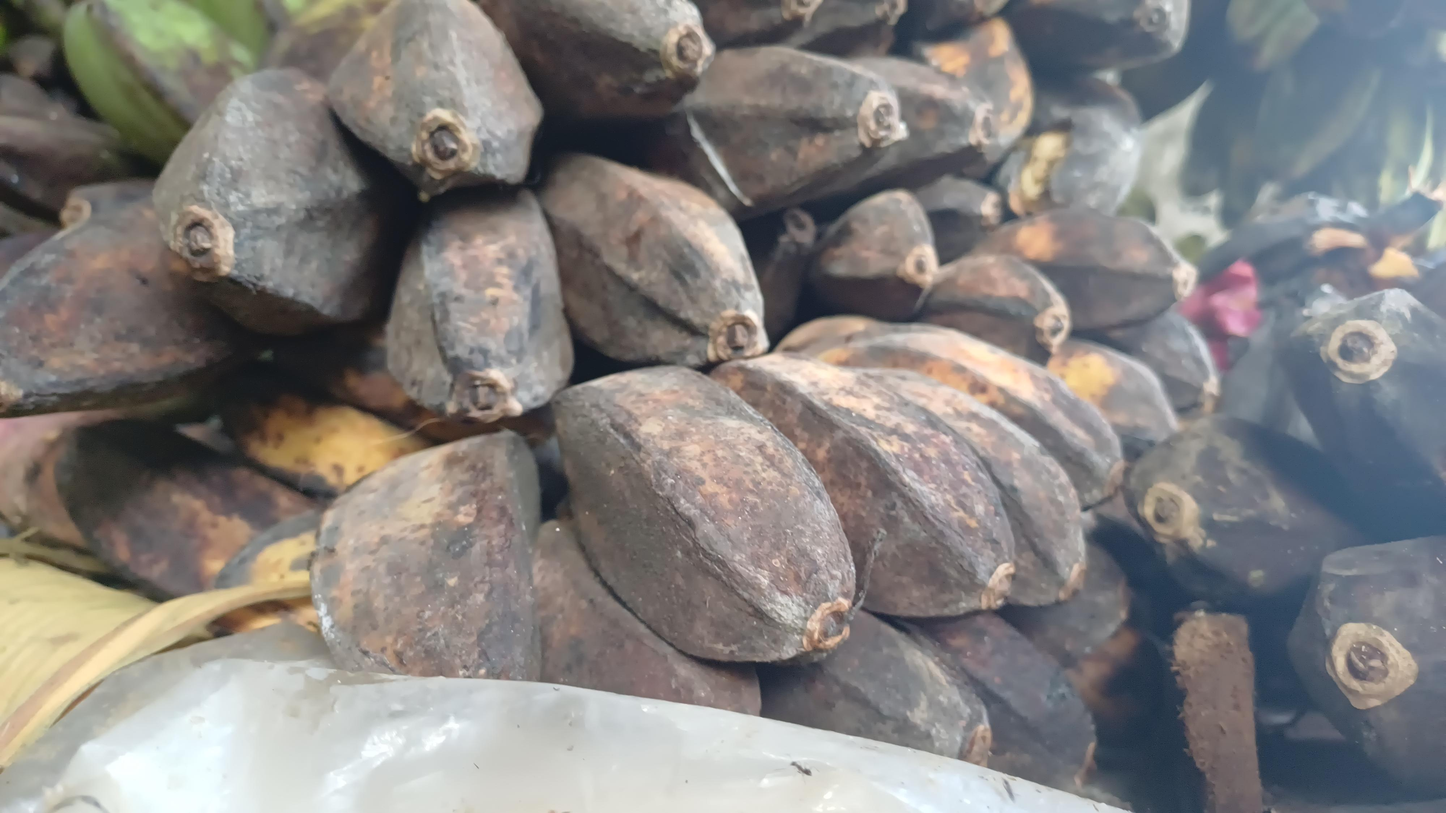overripe: (0, 0, 995, 422), (311, 316, 1127, 791), (1125, 289, 1446, 788), (919, 206, 1219, 457), (734, 177, 1003, 339), (692, 0, 1191, 69)
